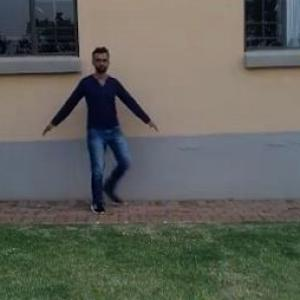land: (42, 49, 154, 221)
